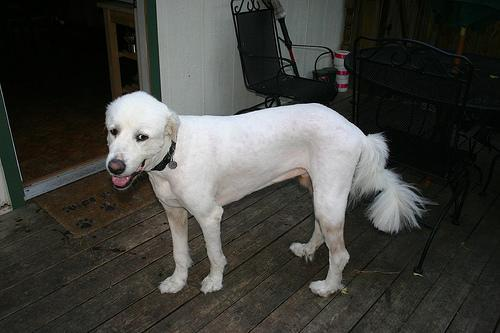Great_Pyrenees: (101, 89, 429, 299)
